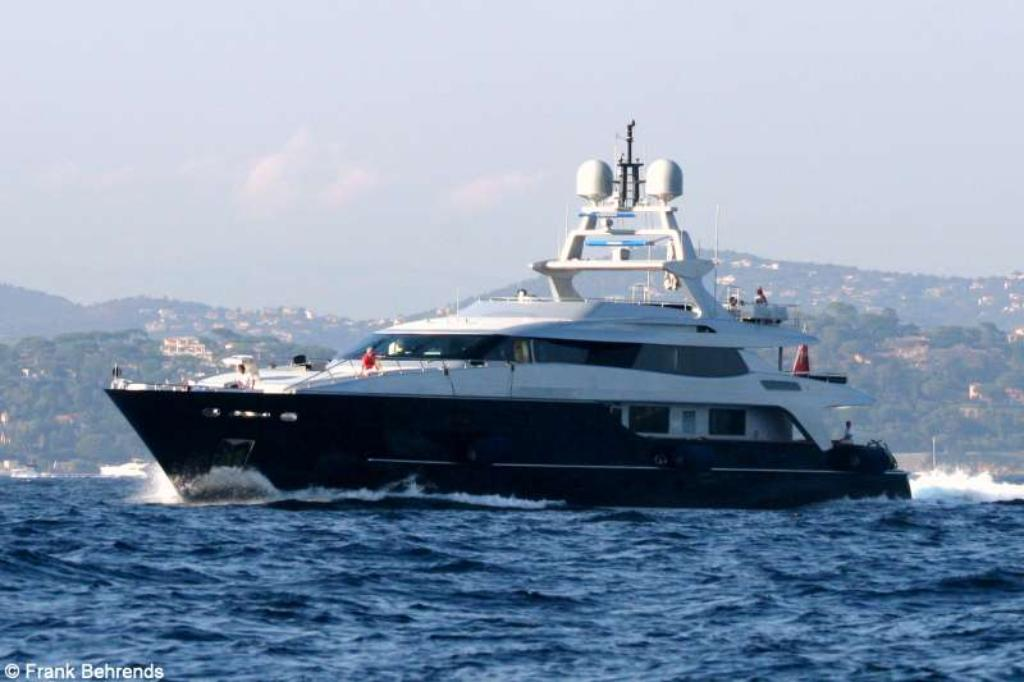PassengerShip: (98, 127, 922, 511)
